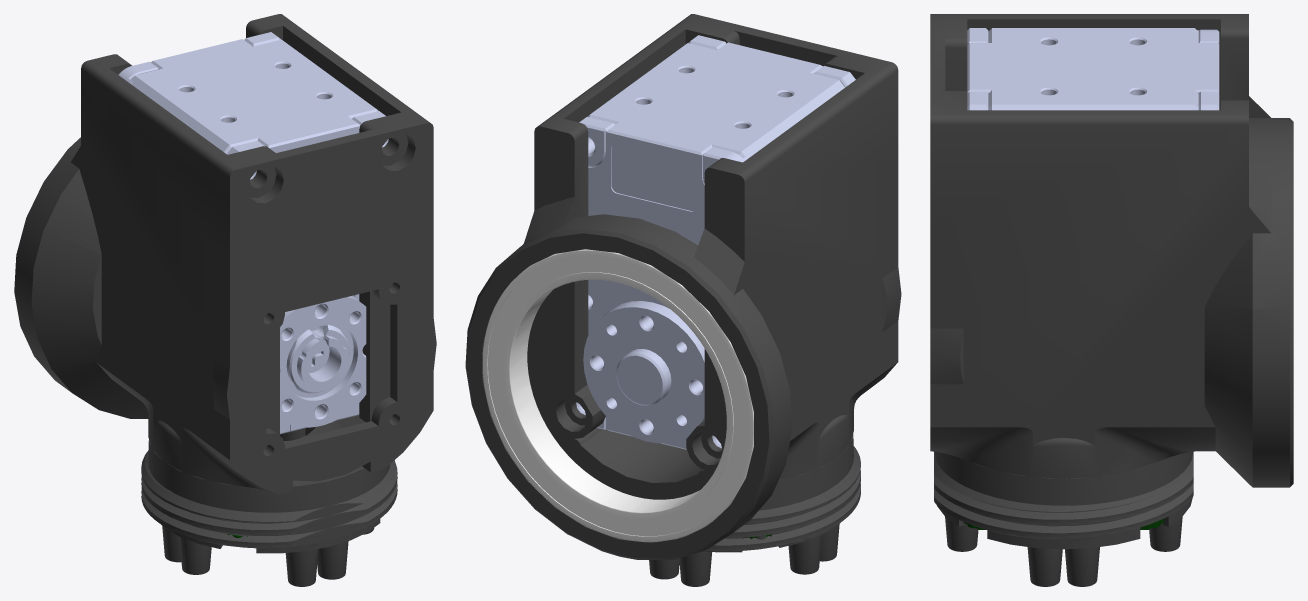
3 views of the same model, side by side, from view 1: azimuth 30°, elevation 25°; view 2: azimuth 150°, elevation 25°; view 3: azimuth 270°, elevation 25° (orthographic). The views are drawn at different scales.
Parts seen in each view (by area): view 1: node31, node30, node4, node6, node5; view 2: node31, node4, node0, node30, node10; view 3: node31, node30, node4.
Boxes of the visible parts, x1,y1,x2,y2 form: node31: [14, 14, 436, 494]; node30: [141, 427, 397, 586]; node4: [131, 39, 378, 434]; node6: [280, 296, 366, 427]; node5: [286, 324, 349, 393]; node31: [465, 14, 901, 559]; node4: [583, 42, 844, 449]; node0: [482, 249, 753, 541]; node30: [649, 434, 860, 586]; node10: [579, 117, 614, 166]; node31: [930, 14, 1293, 487]; node30: [934, 451, 1193, 586]; node4: [967, 28, 1219, 110].
Bounding box in the file's own units: 0.0499 × 0.0705 × 0.049.
